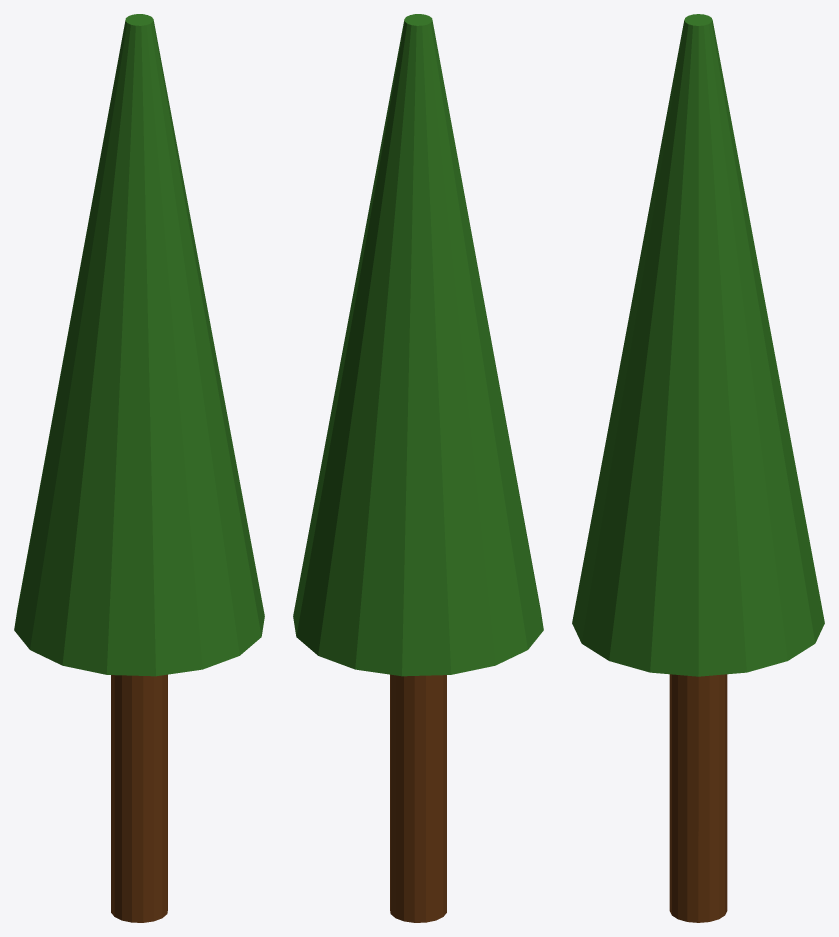
Rendered from Tree.fbx.
3 views of the same model, side by side, from view 1: azimuth 30°, elevation 25°; view 2: azimuth 150°, elevation 25°; view 3: azimuth 270°, elevation 25° (orthographic).
Visible parts, largest first — view 1: Leaves, Trunk; view 2: Leaves, Trunk; view 3: Leaves, Trunk.
Boxes of the visible parts, x1,y1,x2,y2 form: Leaves: (14, 14, 264, 676); Trunk: (111, 674, 167, 922); Leaves: (293, 14, 543, 676); Trunk: (390, 674, 446, 922); Leaves: (572, 14, 824, 676); Trunk: (669, 674, 727, 922).
Size of the model in its own units: 570 by 2215 by 570.
